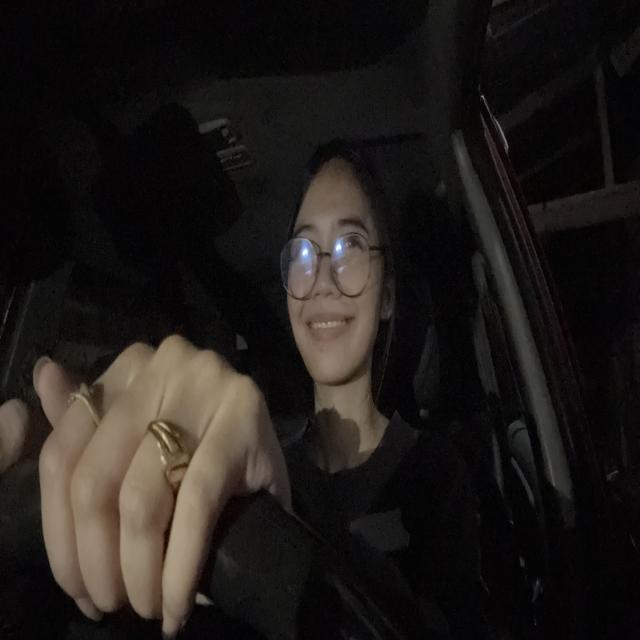open: (325, 207, 373, 270), (294, 218, 318, 276)
